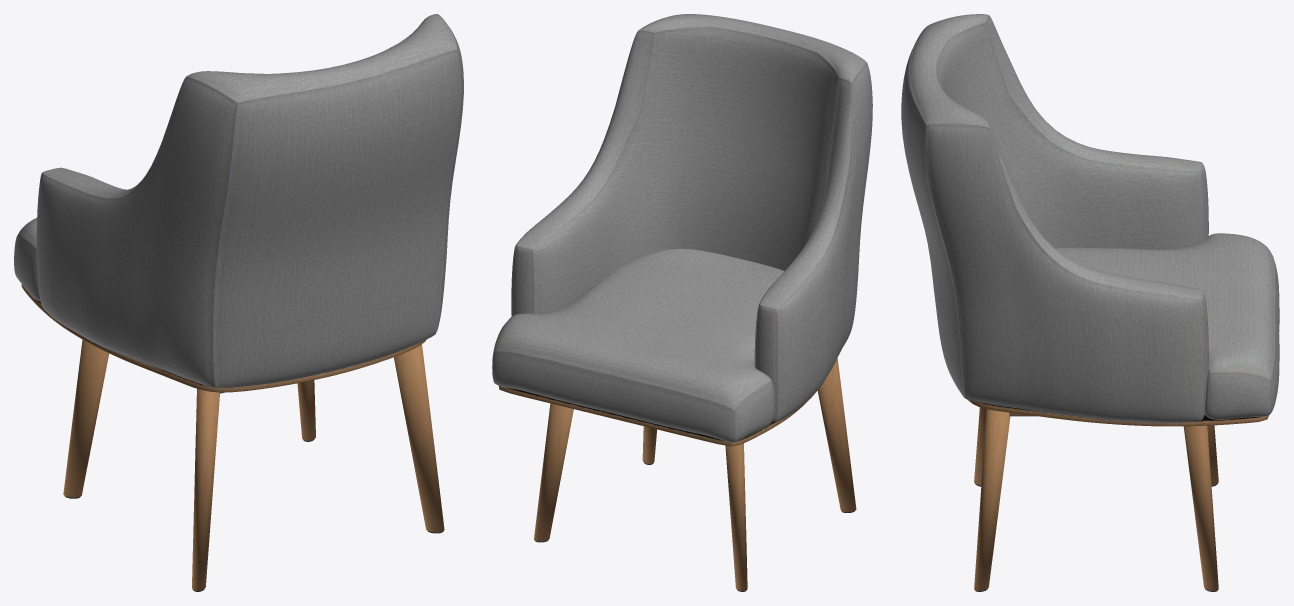
The model's file is chair-transformed.glb.
3 views of the same model, side by side, from view 1: azimuth 30°, elevation 25°; view 2: azimuth 150°, elevation 25°; view 3: azimuth 270°, elevation 25° (orthographic). The views are drawn at different scales.
Parts seen in each view (by area): view 1: Chair; view 2: Chair; view 3: Chair.
Boxes of the visible parts, x1=… form: Chair: x1=14, y1=14, x2=463, y2=591; Chair: x1=492, y1=14, x2=872, y2=591; Chair: x1=901, y1=14, x2=1279, y2=591.
Bounding box in the file's own units: 0.748 × 1.11 × 0.8075.
2 materials, 1 textured.
